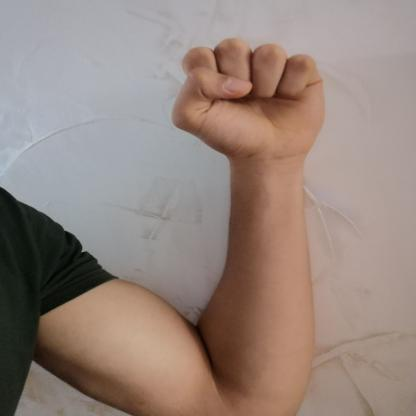SAD: (153, 30, 343, 174)
